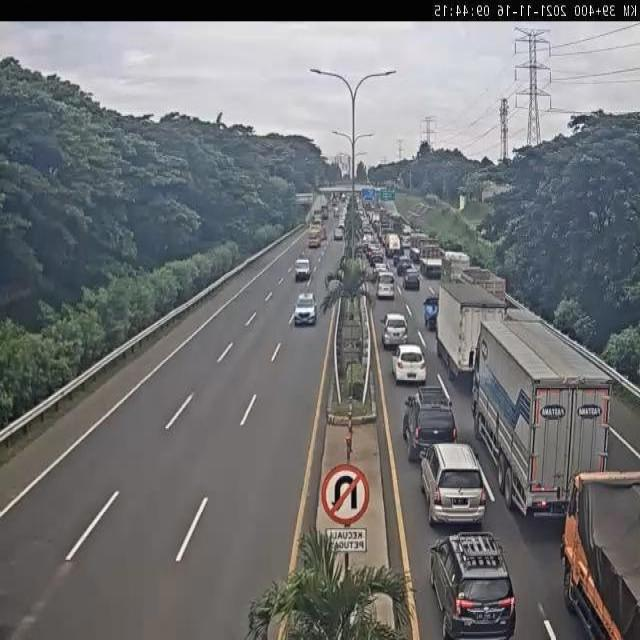Car: (428, 530, 516, 640), (418, 441, 486, 527), (400, 383, 460, 468), (392, 343, 428, 385), (381, 312, 409, 349), (294, 292, 317, 325), (403, 269, 420, 290), (306, 229, 321, 249), (370, 250, 385, 268), (397, 258, 412, 275), (374, 262, 388, 278), (393, 252, 405, 268), (334, 225, 344, 241)
Truck: (470, 314, 616, 517), (555, 464, 640, 640), (434, 283, 507, 384), (456, 265, 508, 303), (440, 250, 471, 290), (418, 242, 443, 278), (422, 295, 444, 334), (409, 232, 430, 258), (386, 232, 401, 259), (294, 258, 312, 280)
Van: (376, 272, 396, 299)
